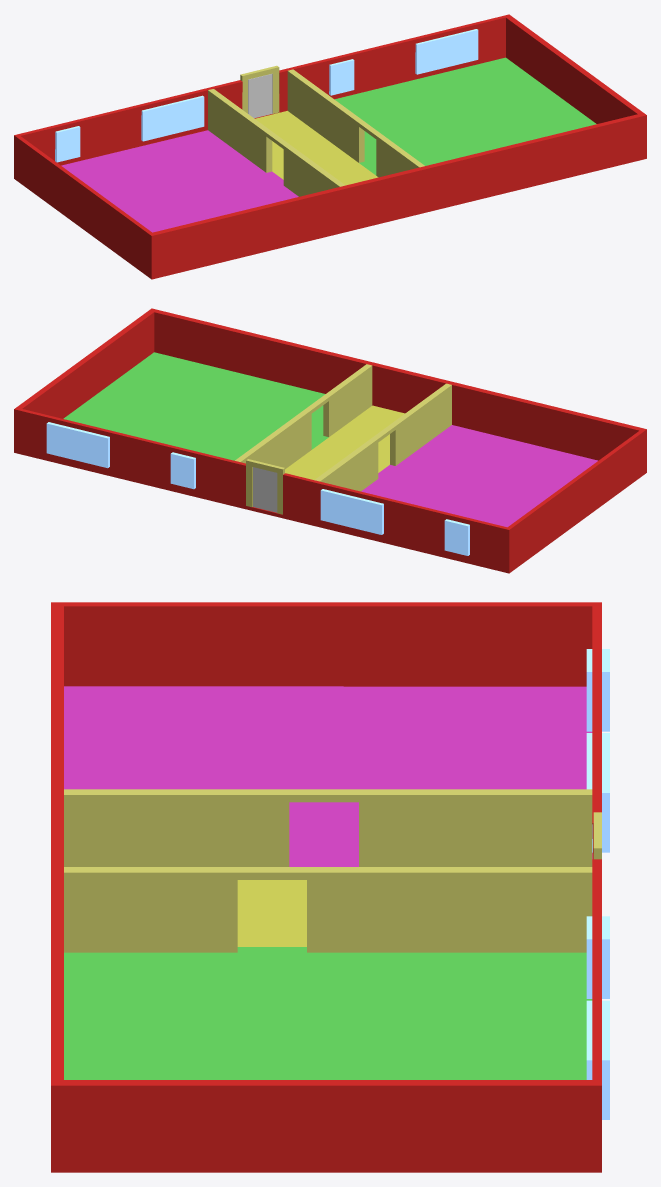
The model's file is KitchenAndBath.fbx.
3 renders of one model, top to bottom at view 1: azimuth 30°, elevation 25°; view 2: azimuth 150°, elevation 25°; view 3: azimuth 270°, elevation 25°, orthographic. The views are drawn at different scales.
Visible parts, largest first — view 1: House, Window.002, Window, Door, Window.001, Window.003; view 2: House, Window, Window.002, Door, Window.001, Window.003; view 3: House, Window, Window.002, Window.001, Window.003.
Boxes of the visible parts, left/top/right/bottom form: House: left=14, top=14, right=646, bottom=279; Window.002: left=141, top=95, right=204, bottom=141; Window: left=415, top=29, right=478, bottom=74; Door: left=248, top=73, right=272, bottom=118; Window.001: left=329, top=59, right=354, bottom=95; Window.003: left=55, top=126, right=80, bottom=162; House: left=14, top=308, right=646, bottom=573; Window: left=46, top=422, right=109, bottom=468; Window.002: left=320, top=489, right=383, bottom=534; Door: left=253, top=467, right=277, bottom=512; Window.001: left=170, top=452, right=195, bottom=489; Window.003: left=444, top=519, right=469, bottom=555; House: left=51, top=602, right=601, bottom=1172; Window: left=586, top=1000, right=609, bottom=1119; Window.002: left=586, top=733, right=609, bottom=852; Window.001: left=586, top=916, right=609, bottom=998; Window.003: left=586, top=649, right=609, bottom=731.
Size of the model in its own units: 4229 by 603 by 2068.
